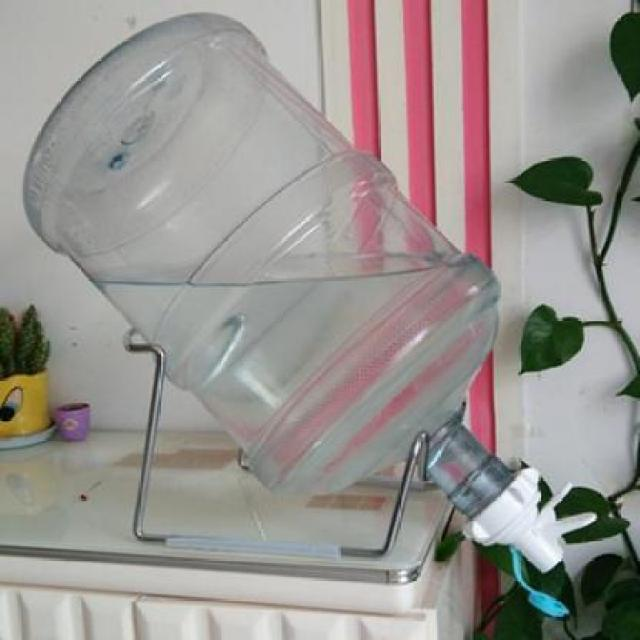coolerbottle: (19, 4, 523, 534)
